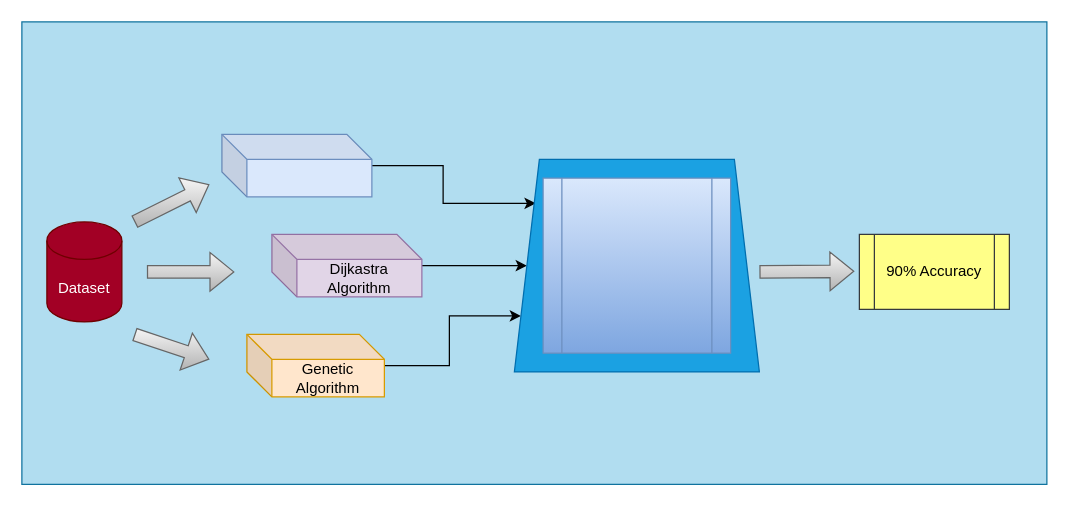
This 1069x506 diagram has some shape labels left out. The centre of each missing label's shape, as x and y in pixels:
"Bandwidth Packet Loss Mobility Transmission Power Battery Capacity Health" goes at [636,265].
"Bellman Ford Algorithm" goes at [296,165].
